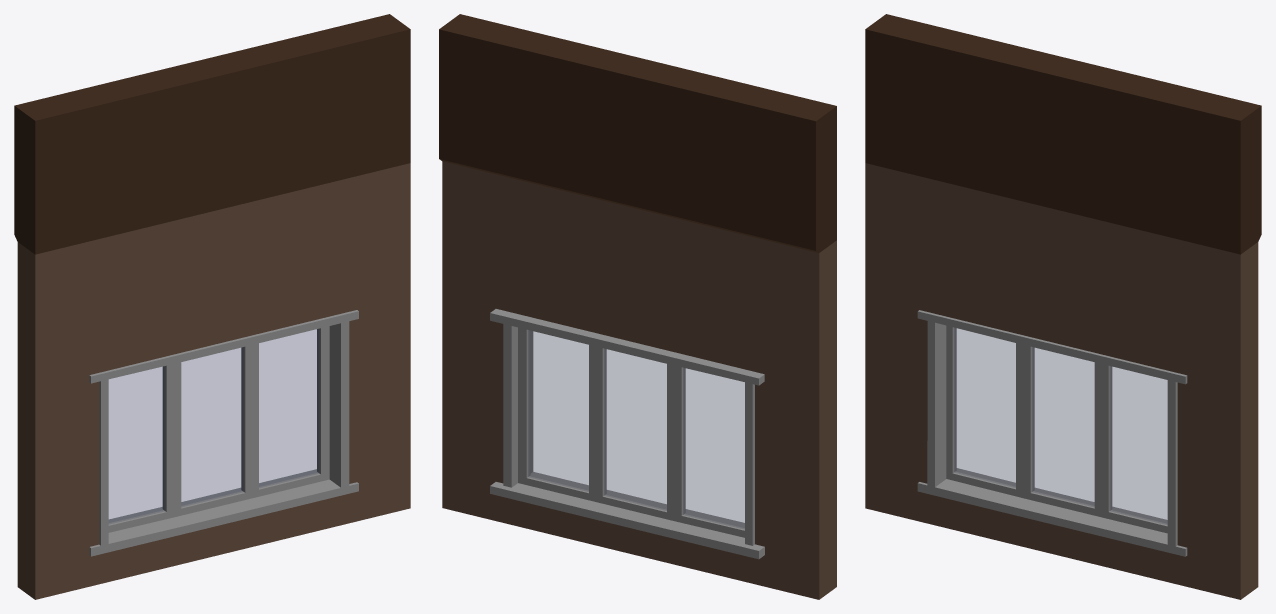
3 views of the same model, side by side, from view 1: azimuth 30°, elevation 25°; view 2: azimuth 150°, elevation 25°; view 3: azimuth 330°, elevation 25° (orthographic).
Parts seen in each view (by area): view 1: Hub_2_first_floor_01; view 2: Hub_2_first_floor_01; view 3: Hub_2_first_floor_01.
Part boxes in pixels (x1=…): Hub_2_first_floor_01: x1=14, y1=14, x2=410, y2=599; Hub_2_first_floor_01: x1=439, y1=14, x2=836, y2=599; Hub_2_first_floor_01: x1=865, y1=14, x2=1261, y2=599.
Bounding box in the file's own units: 319 × 388 × 37.15.
